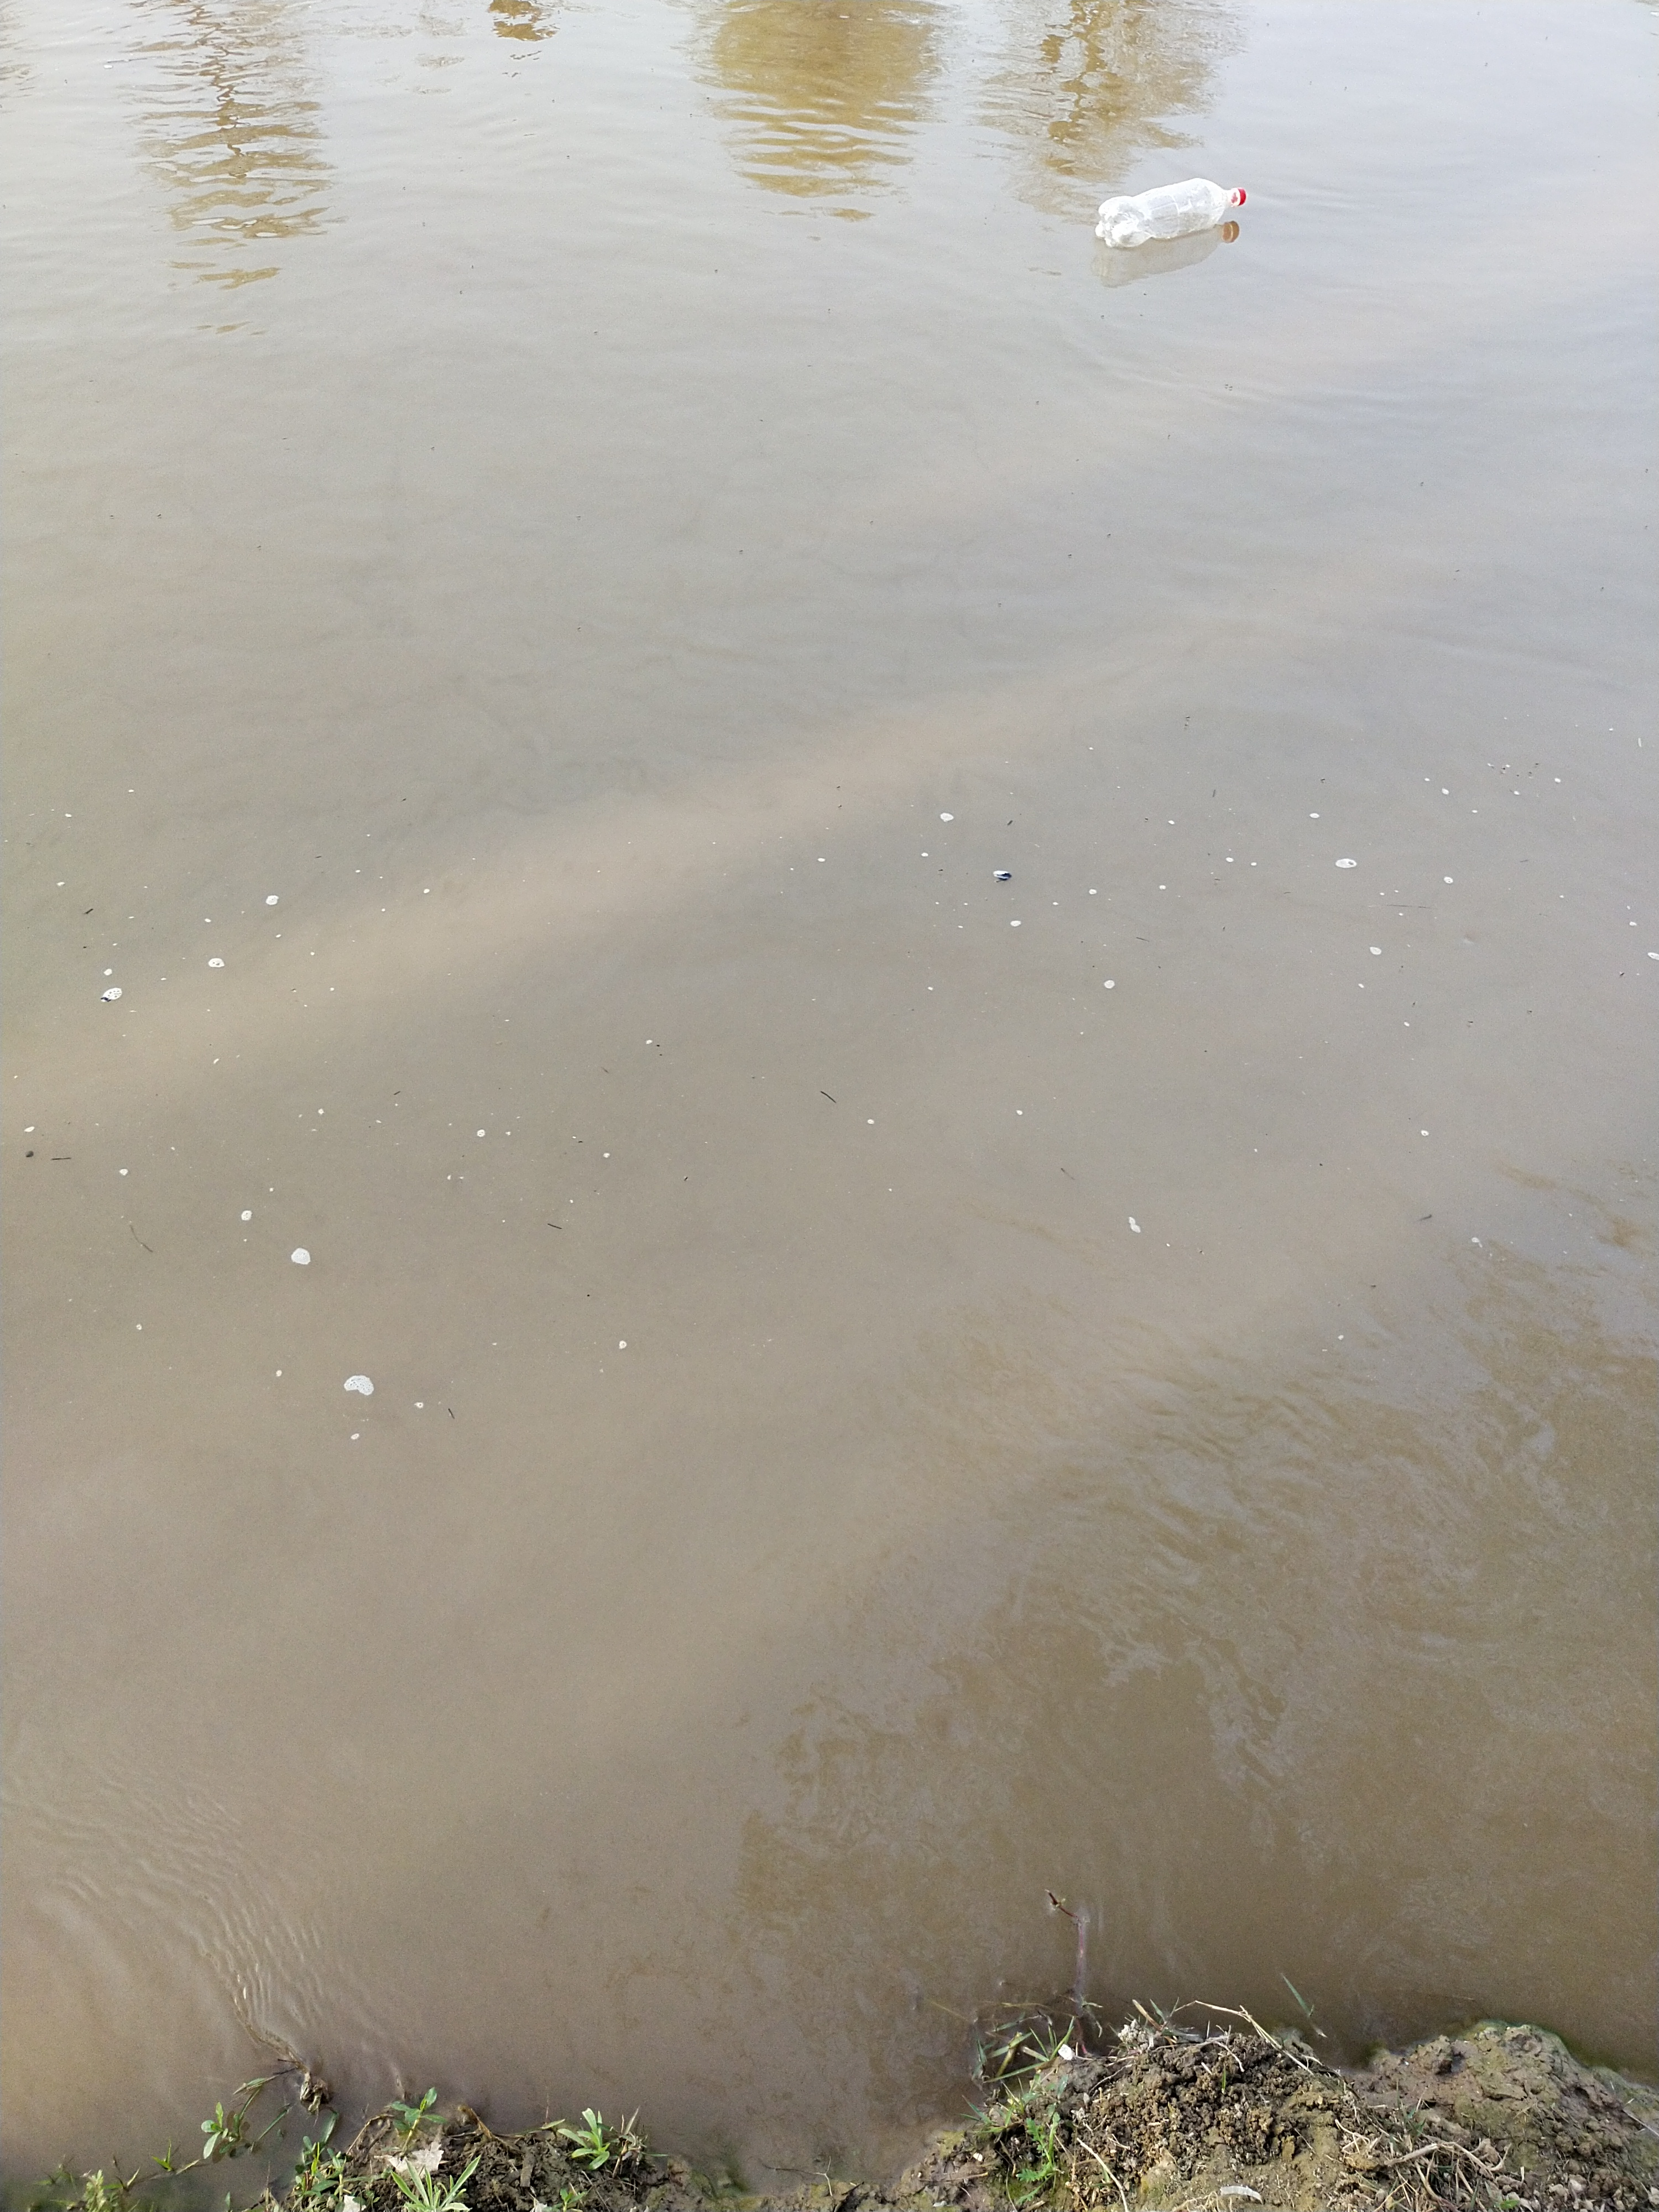Plastic Bottle: (1093, 178, 1248, 253)
